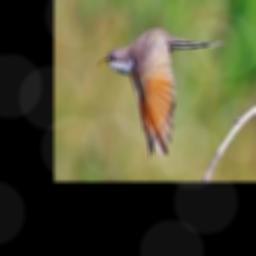Cuckoo: (97, 27, 224, 159)
